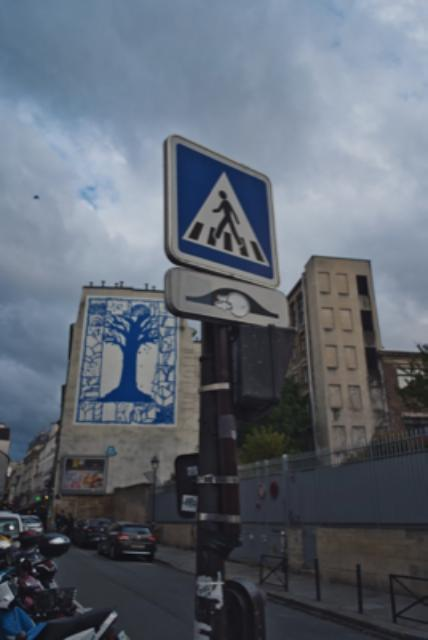crosswalk-sign: (163, 133, 283, 289)
